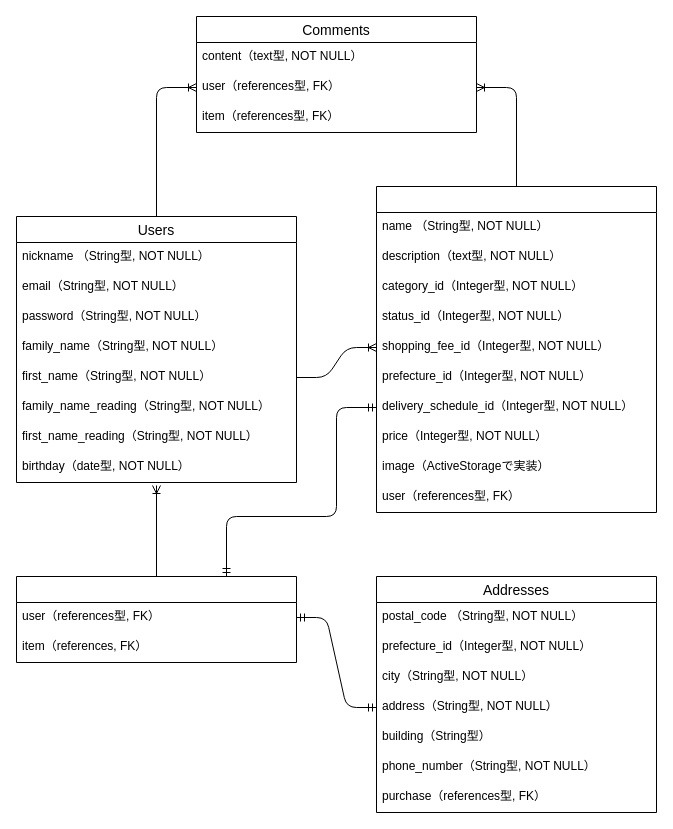
Image size: 673x829. Some labels were removed from this diagram. The shapes that lost their labels are listed below. From the top down, each one's box as (x1, y1, x2, y2) in pixels, then its label:
(376, 186, 656, 512): items
(16, 576, 296, 662): Purchases
